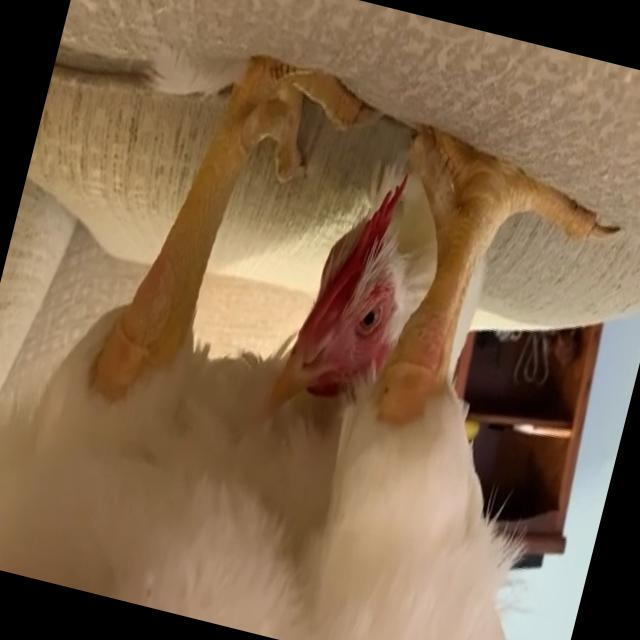self preening: (0, 1, 634, 640)
